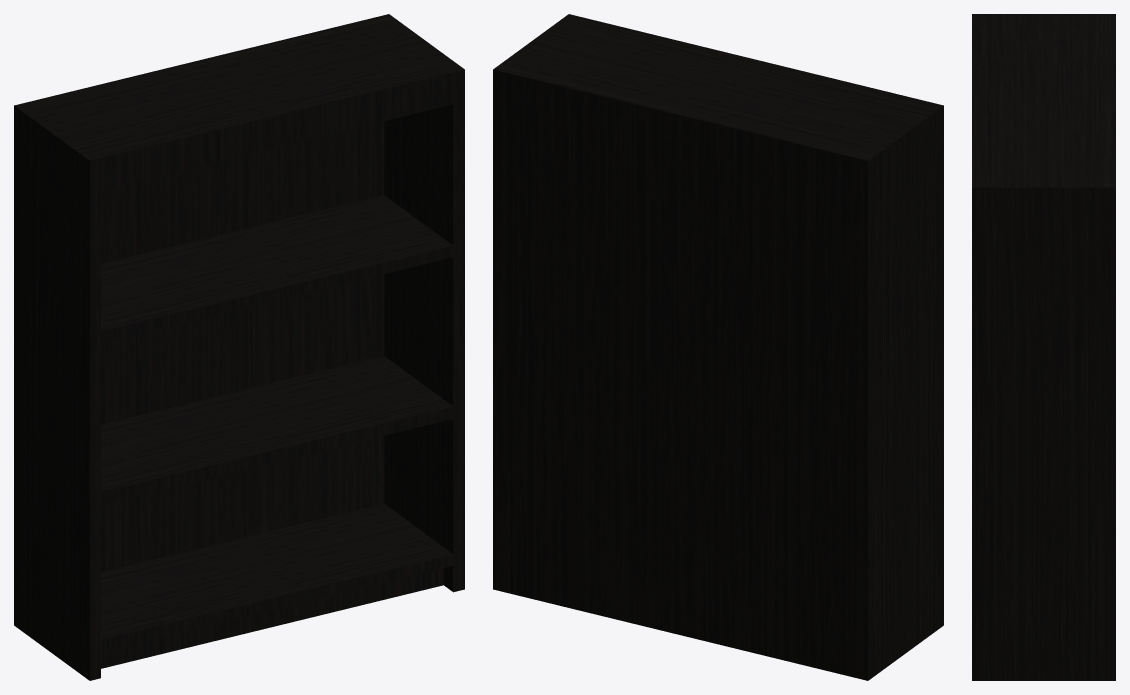
Rendered from BIL_Bookcase.obj.
The picture shows the model from 3 angles, left to right: view 1: azimuth 30°, elevation 25°; view 2: azimuth 150°, elevation 25°; view 3: azimuth 270°, elevation 25°; orthographic projection. The views are drawn at different scales.
Visible parts, largest first — view 1: pCube1; view 2: pCube1; view 3: pCube1.
Boxes of the visible parts, x1=… form: pCube1: x1=14, y1=14, x2=464, y2=680; pCube1: x1=493, y1=14, x2=943, y2=680; pCube1: x1=972, y1=14, x2=1115, y2=680.
Bounding box in the file's own units: 8 × 10.6 × 2.8.
1 material, 1 textured.
